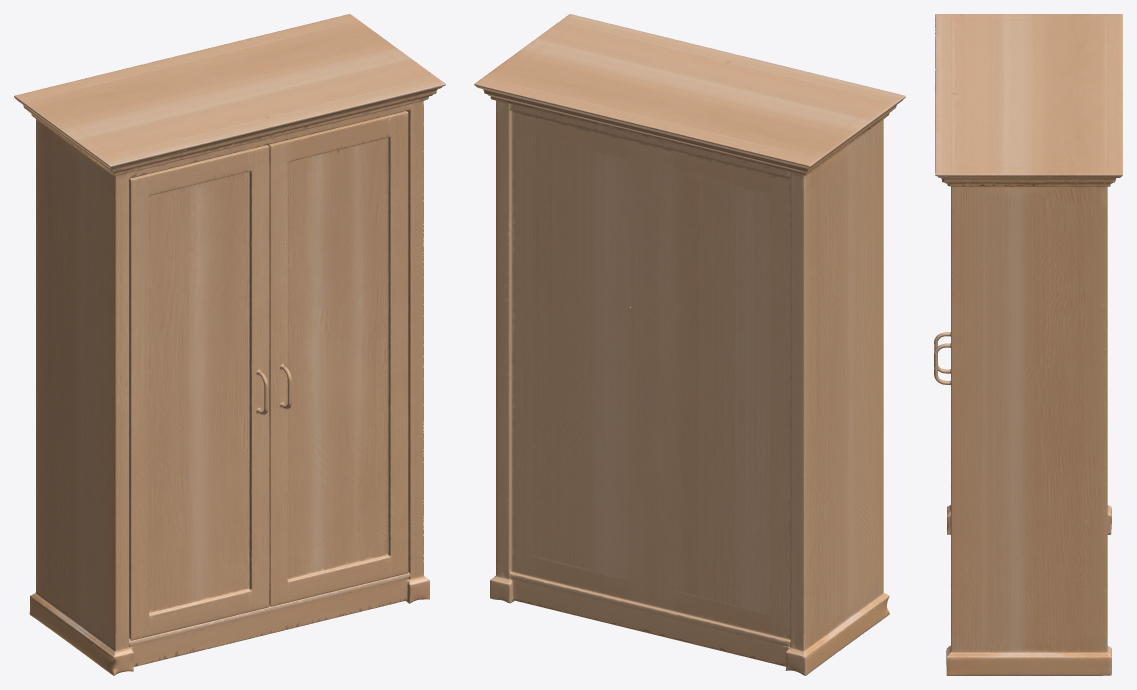
The picture shows the model from 3 angles, left to right: view 1: azimuth 30°, elevation 25°; view 2: azimuth 150°, elevation 25°; view 3: azimuth 270°, elevation 25°; orthographic projection. The views are drawn at different scales.
Parts seen in each view (by area): view 1: Mesh_0; view 2: Mesh_0; view 3: Mesh_0.
Part boxes in pixels (left/top/right/bottom): Mesh_0: left=14, top=14, right=445, bottom=675; Mesh_0: left=474, top=14, right=905, bottom=675; Mesh_0: left=934, top=14, right=1122, bottom=675.
Bounding box in the file's own units: 1.36 × 2 × 0.6752.
Materials: 1 (1 with a texture image).
